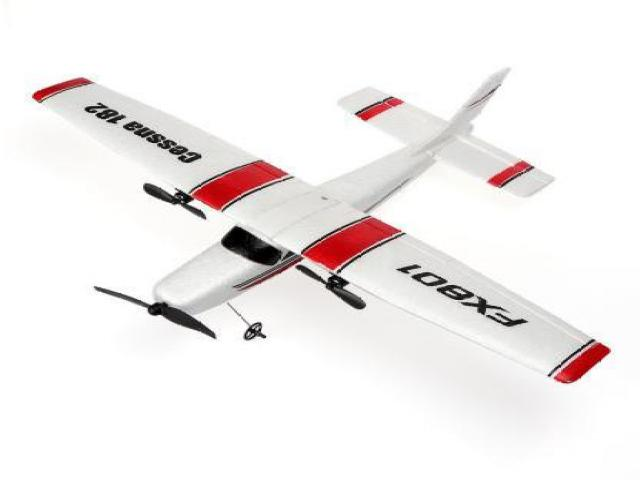uav: (21, 60, 617, 388)
